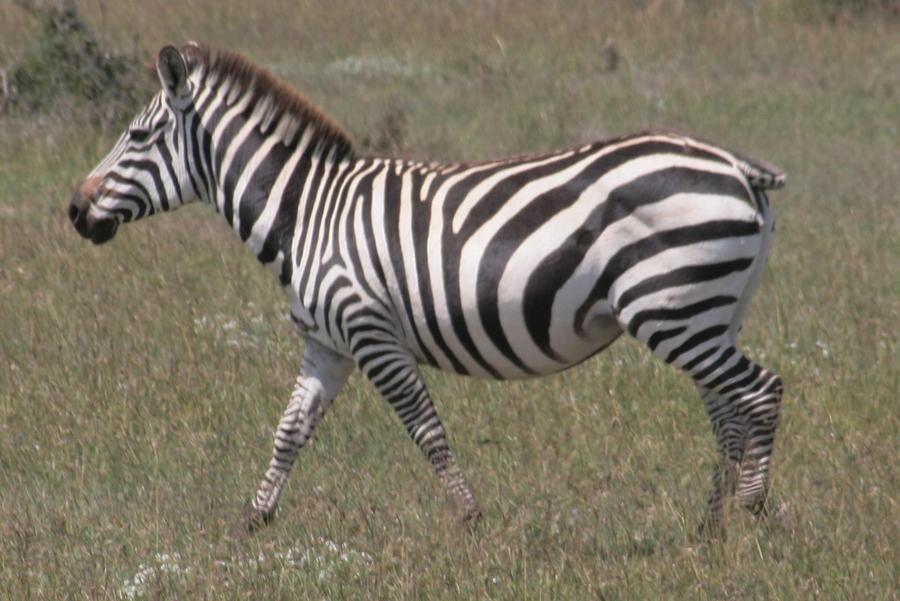zebra_plains: (256, 127, 774, 395)
